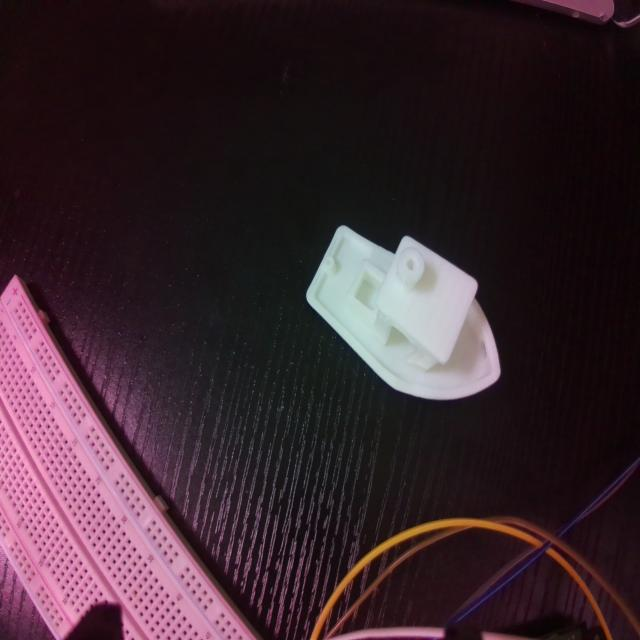ship: (306, 222, 502, 401)
